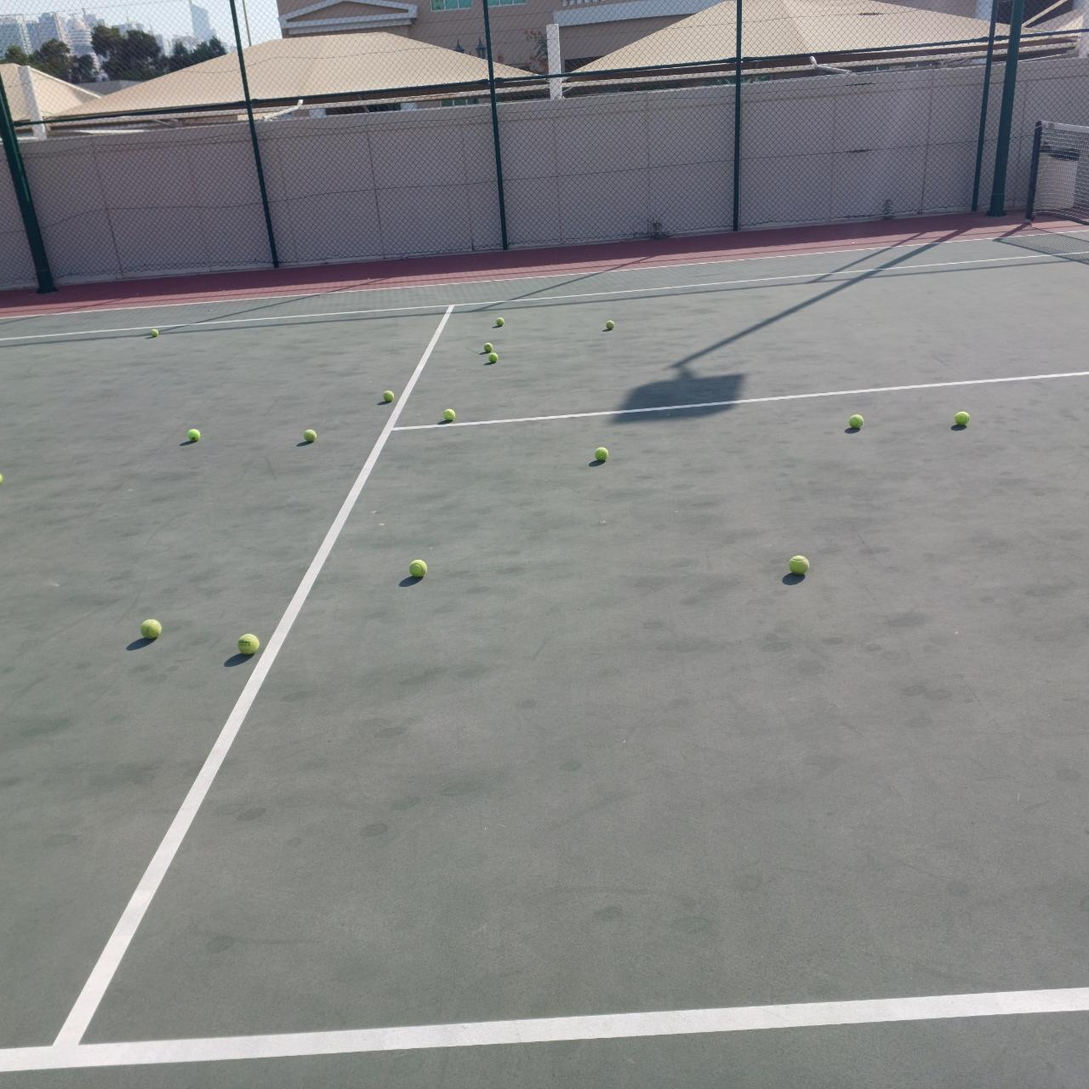tennis-ball: (236, 630, 259, 655), (139, 616, 162, 640), (787, 553, 809, 575), (407, 556, 427, 579), (953, 411, 969, 427), (185, 426, 201, 442), (848, 413, 864, 429), (593, 445, 608, 462), (302, 427, 316, 443), (382, 390, 395, 403), (443, 408, 455, 422), (488, 352, 499, 363), (605, 318, 614, 331), (484, 342, 493, 353), (496, 317, 505, 327), (150, 328, 159, 337), (0, 473, 3, 483)
